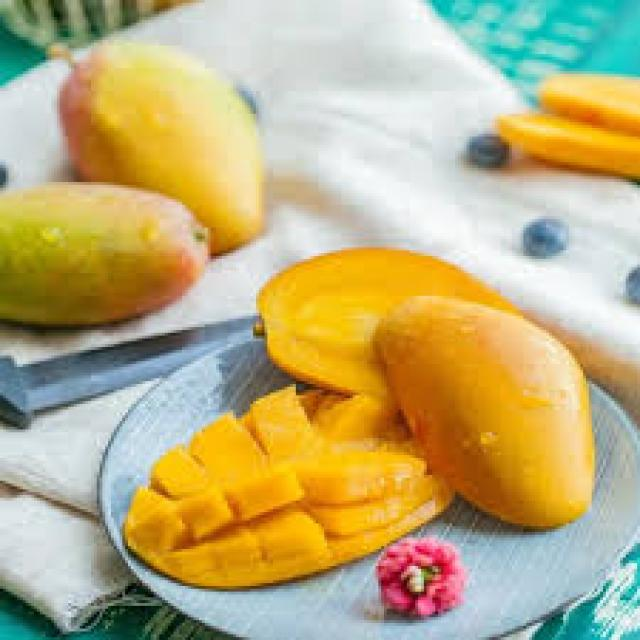mango: (128, 383, 444, 588), (373, 296, 597, 529), (60, 44, 282, 256), (251, 245, 525, 396), (0, 185, 221, 321)
